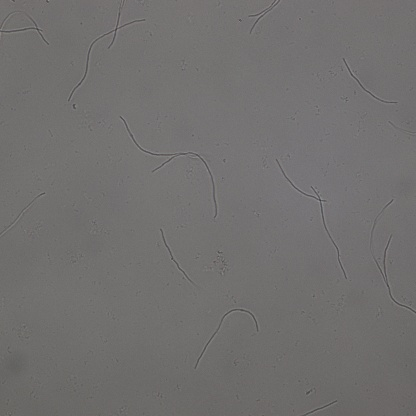Sensitive: (121, 116, 218, 217), (67, 9, 147, 101), (369, 199, 416, 311), (194, 307, 259, 369), (312, 186, 346, 278), (344, 59, 398, 107), (276, 160, 328, 204), (1, 192, 45, 237), (160, 228, 194, 286), (1, 9, 50, 46), (248, 1, 281, 35)
